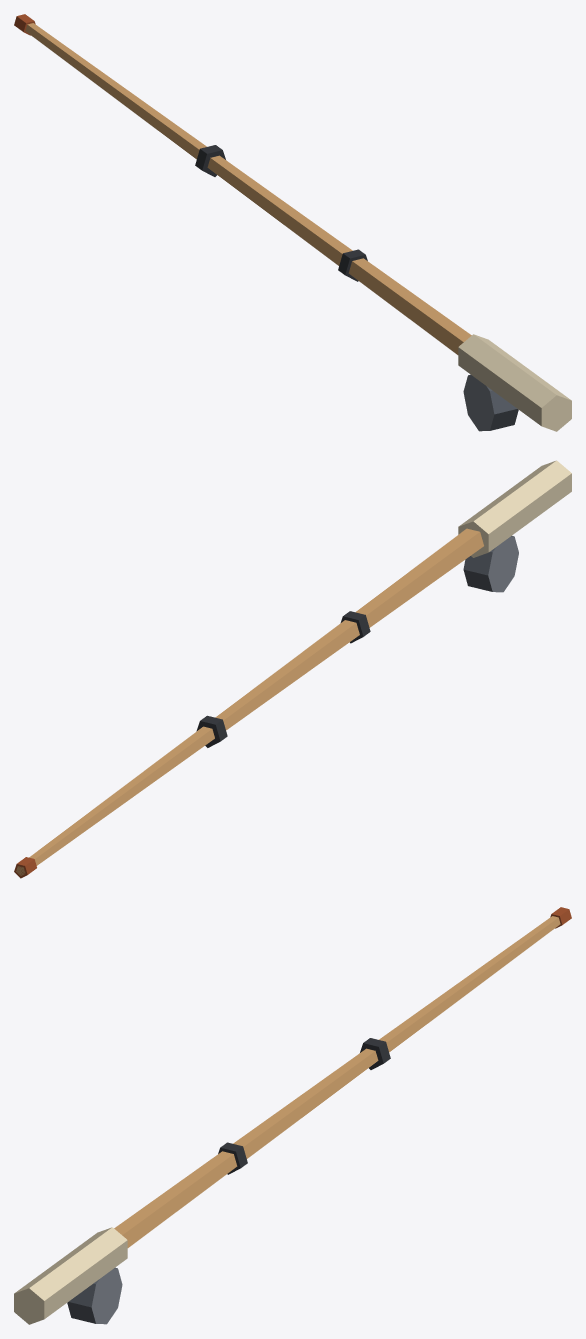
File: prop_fishing_rod.glb
3 views of the same model, one above another, from view 1: azimuth 30°, elevation 25°; view 2: azimuth 150°, elevation 25°; view 3: azimuth 330°, elevation 25° (orthographic).
Parts seen in each view (by area): view 1: prop_fishing_rod; view 2: prop_fishing_rod; view 3: prop_fishing_rod.
Part boxes in pixels (x1,y1,x2,y2): prop_fishing_rod: (14,14,571,431); prop_fishing_rod: (14,460,571,878); prop_fishing_rod: (14,907,571,1324).
Bounding box in the file's own units: 0.0147 × 0.0375 × 0.45.
1 material, 1 textured.
